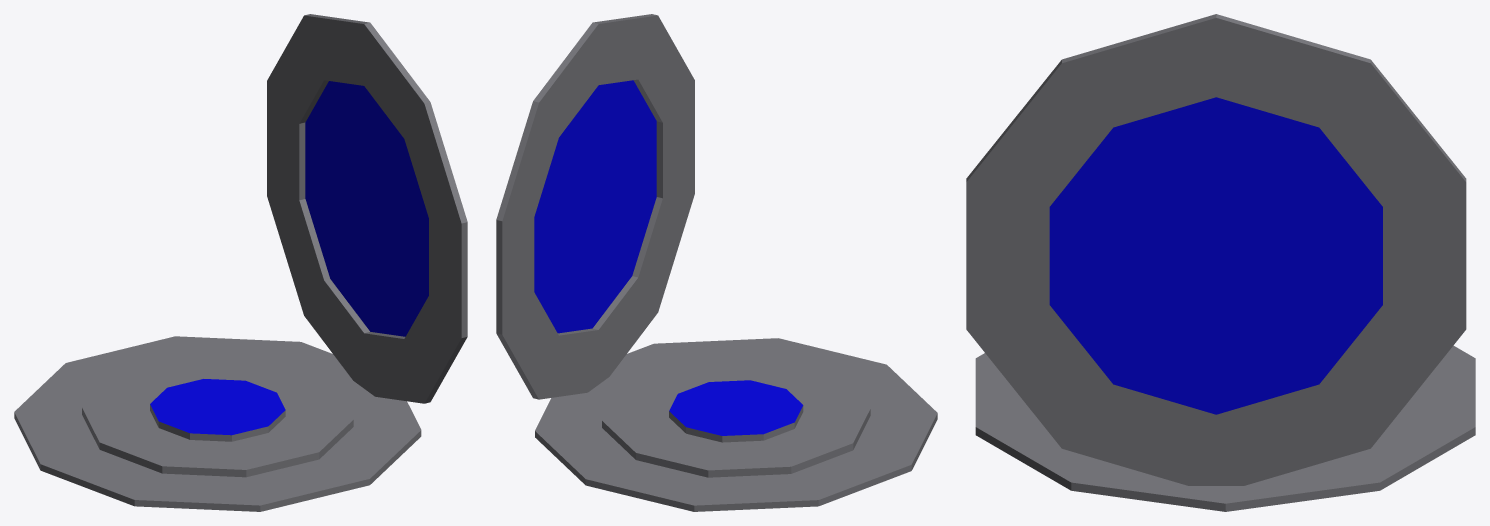
File: PlatformEnd_01.fbx
3 views of the same model, side by side, from view 1: azimuth 30°, elevation 25°; view 2: azimuth 150°, elevation 25°; view 3: azimuth 270°, elevation 25° (orthographic). The views are drawn at different scales.
Parts seen in each view (by area): view 1: gBPlatformEnd_02, gBPlatformEnd_01; view 2: gBPlatformEnd_02, gBPlatformEnd_01; view 3: gBPlatformEnd_02, gBPlatformEnd_01.
Boxes of the visible parts, box(x1,y1,x2,y2) form: gBPlatformEnd_02: box(267, 14, 467, 403); gBPlatformEnd_01: box(14, 336, 421, 511); gBPlatformEnd_02: box(496, 14, 694, 399); gBPlatformEnd_01: box(535, 338, 937, 511); gBPlatformEnd_02: box(966, 14, 1466, 485); gBPlatformEnd_01: box(975, 345, 1475, 511).
Size of the model in its own units: 300 by 300 by 291.
